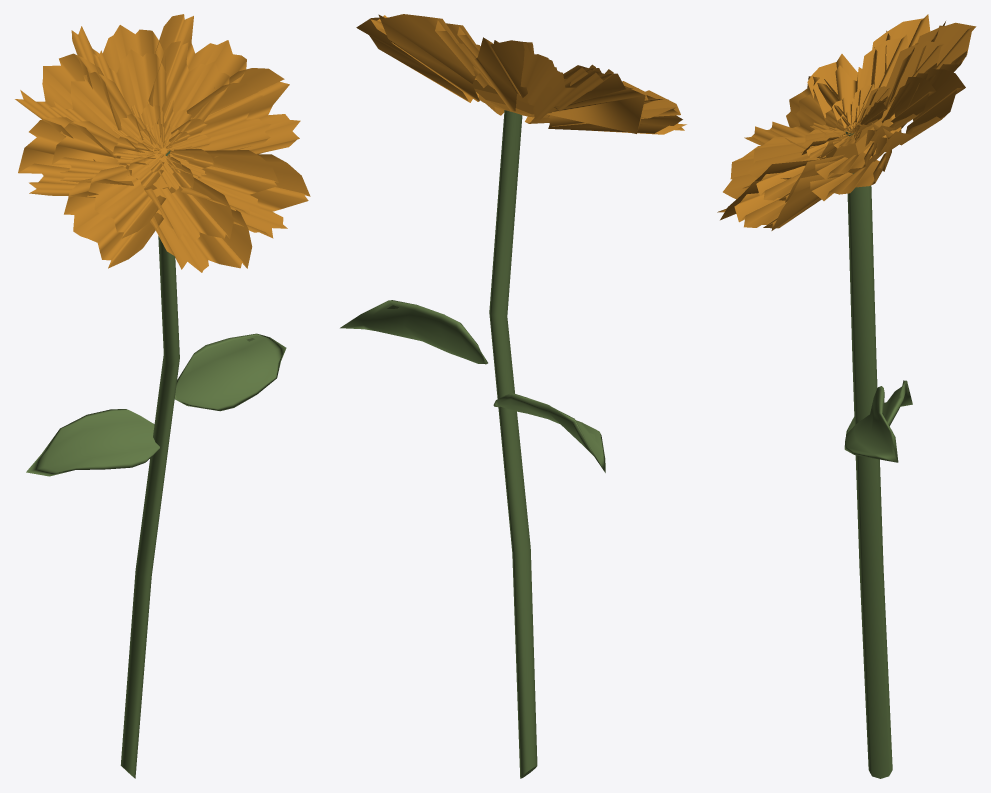
File: carnationYellow.fbx
3 renders of one model, left to right at view 1: azimuth 30°, elevation 25°; view 2: azimuth 150°, elevation 25°; view 3: azimuth 270°, elevation 25°, orthographic. The views are drawn at different scales.
Parts seen in each view (by area): view 1: polySurface314; view 2: polySurface314; view 3: polySurface314.
Boxes of the visible parts, bbox=[...] form: polySurface314: bbox=[15, 14, 310, 778]; polySurface314: bbox=[340, 14, 686, 778]; polySurface314: bbox=[717, 14, 976, 778].
Bounding box in the file's own units: 1.22 × 2.93 × 0.9236.
